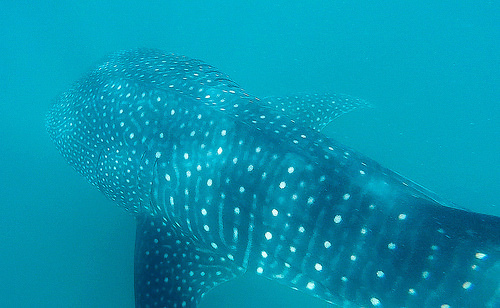shark: (26, 33, 497, 303)
